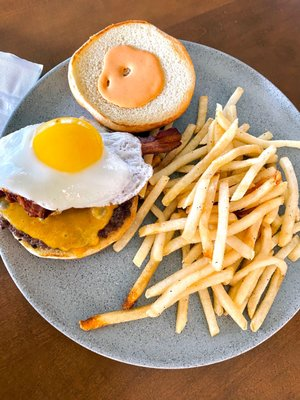soup: (0, 116, 153, 260), (67, 19, 196, 133)
